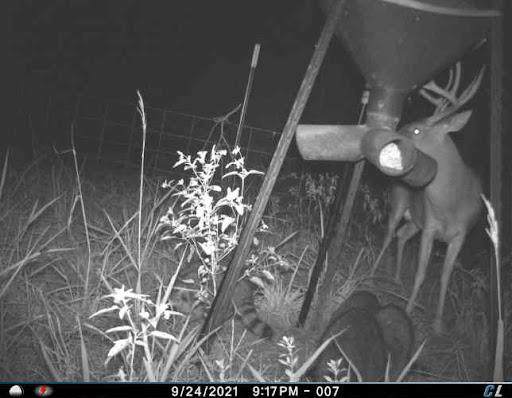Deer: (376, 57, 486, 336)
